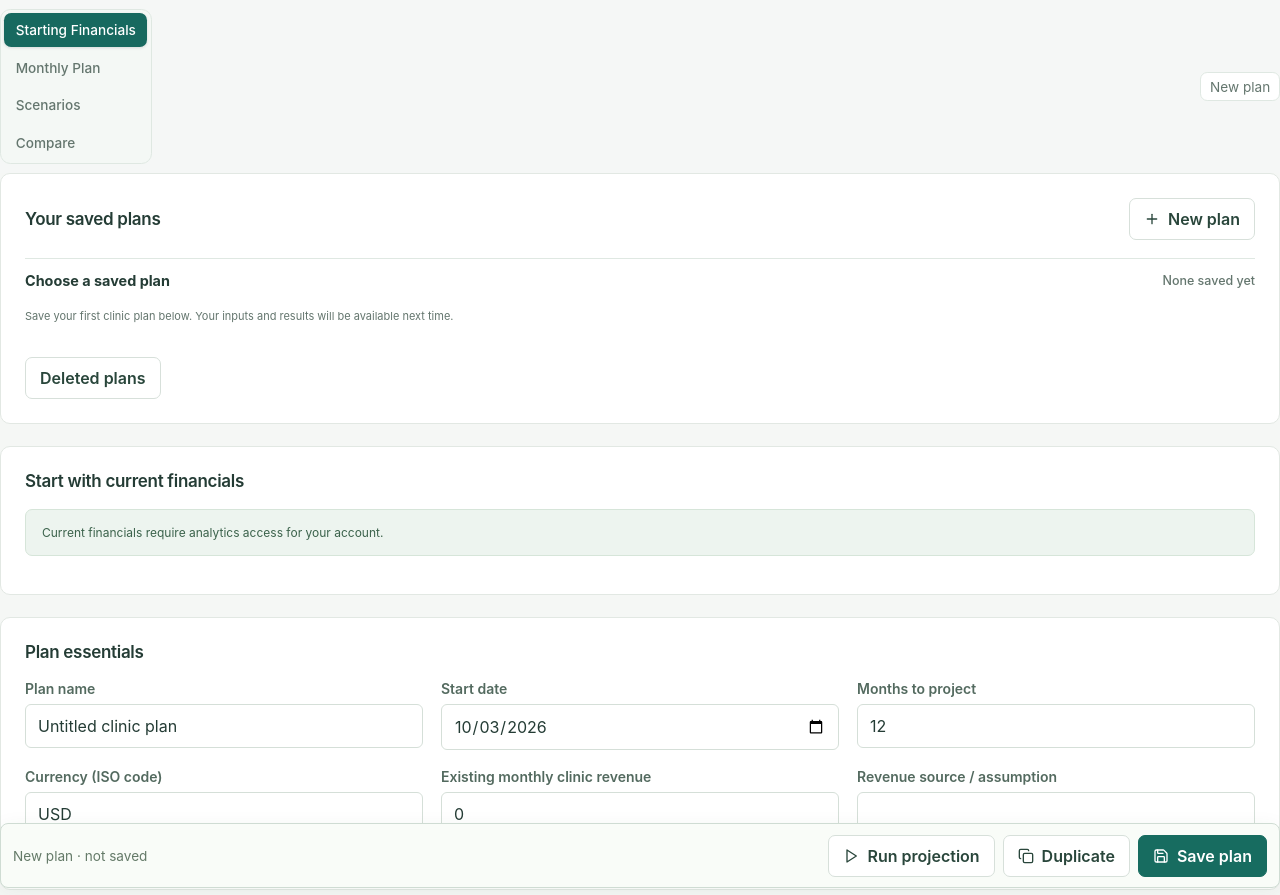
validates required plan fields instead of invoking native validation on a hidden tab
What coordinates should you click on to do the following:
click the button "Monthly plan"
I would click on:
 (76, 68)
Its box is [4,51,148,85].
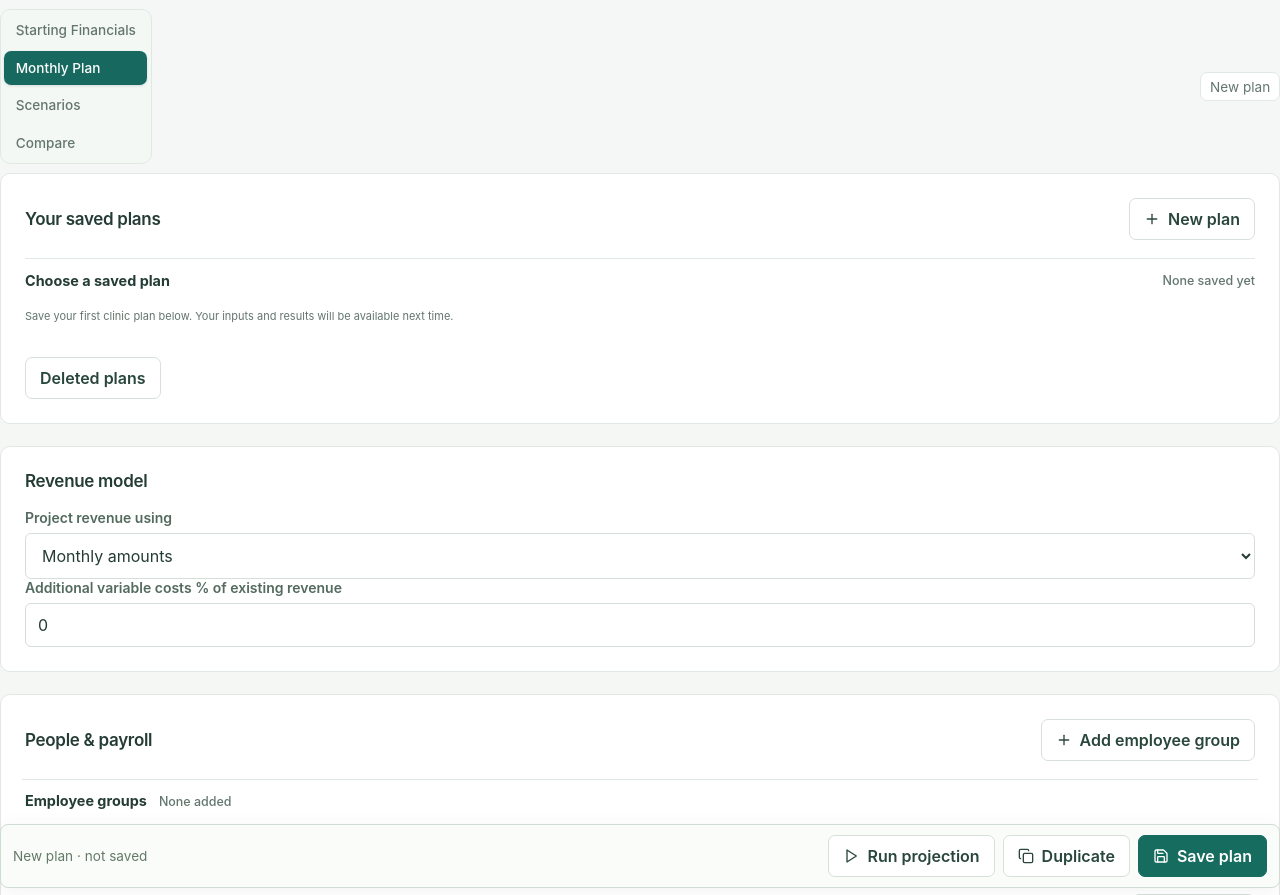
What coordinates should you click on to do the following:
click the button "Save plan"
I would click on:
 (1202, 856)
Its box is [1138,835,1267,877].
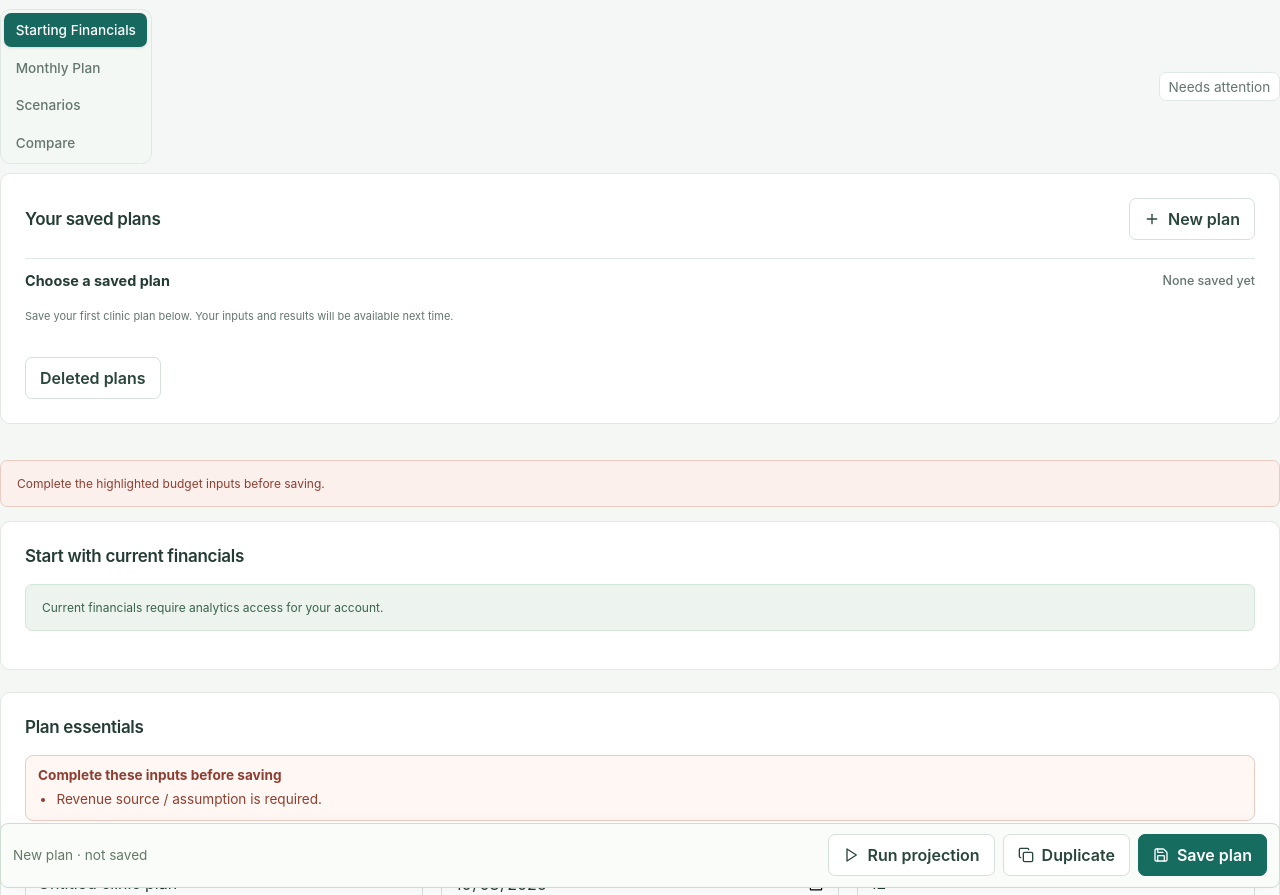
Check: the list item "Revenue source / assumption is required." is shown, box [56,791,322,807]
